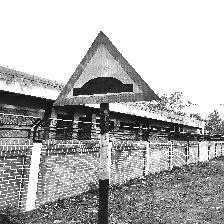Speed-breaker: (52, 31, 162, 106)
